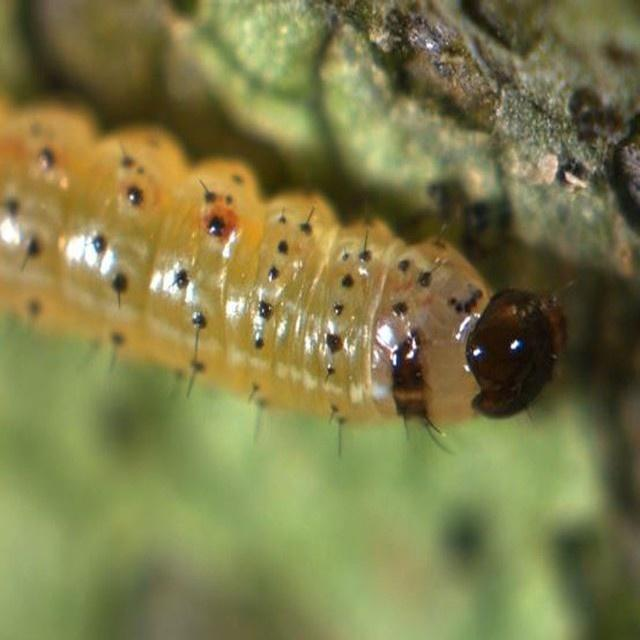gusano_cogollero: (44, 116, 568, 424)
